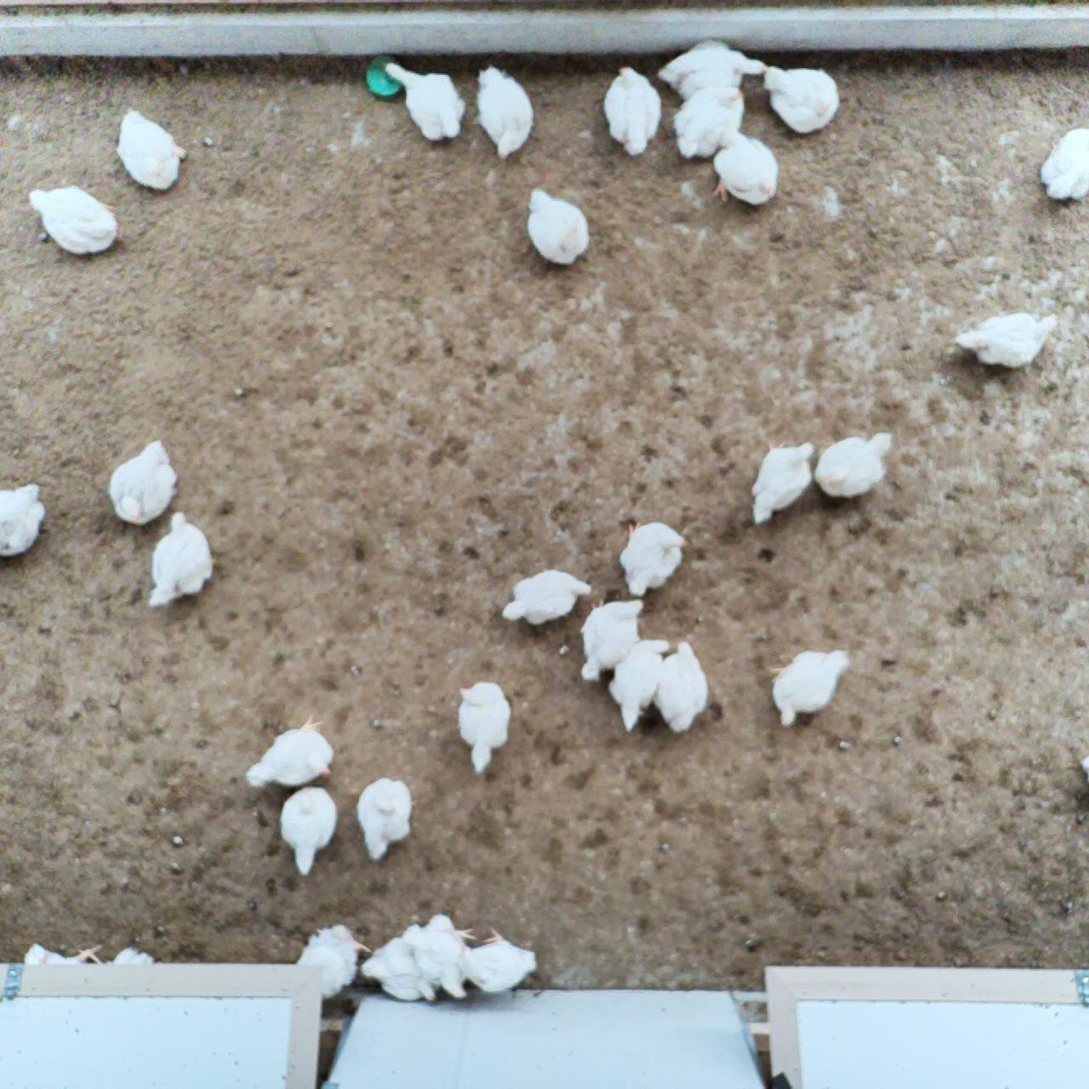chicken: (239, 708, 339, 792), (142, 508, 222, 611), (23, 183, 124, 261), (764, 646, 856, 731), (383, 58, 469, 148), (951, 307, 1064, 375), (653, 35, 772, 98), (113, 104, 193, 196), (103, 437, 181, 528), (747, 435, 820, 531), (606, 633, 676, 733), (275, 780, 344, 881), (704, 125, 784, 210), (575, 595, 650, 684), (291, 924, 371, 1007), (668, 83, 751, 163), (615, 519, 693, 603), (455, 926, 543, 1000), (403, 911, 476, 1000), (759, 61, 844, 137), (359, 934, 445, 1008), (600, 62, 666, 158), (812, 429, 897, 503), (352, 775, 419, 868), (652, 637, 713, 737), (522, 184, 592, 271), (473, 62, 532, 164), (455, 679, 515, 776), (499, 567, 593, 628), (1037, 126, 1089, 208), (0, 479, 48, 565), (20, 938, 109, 969)
